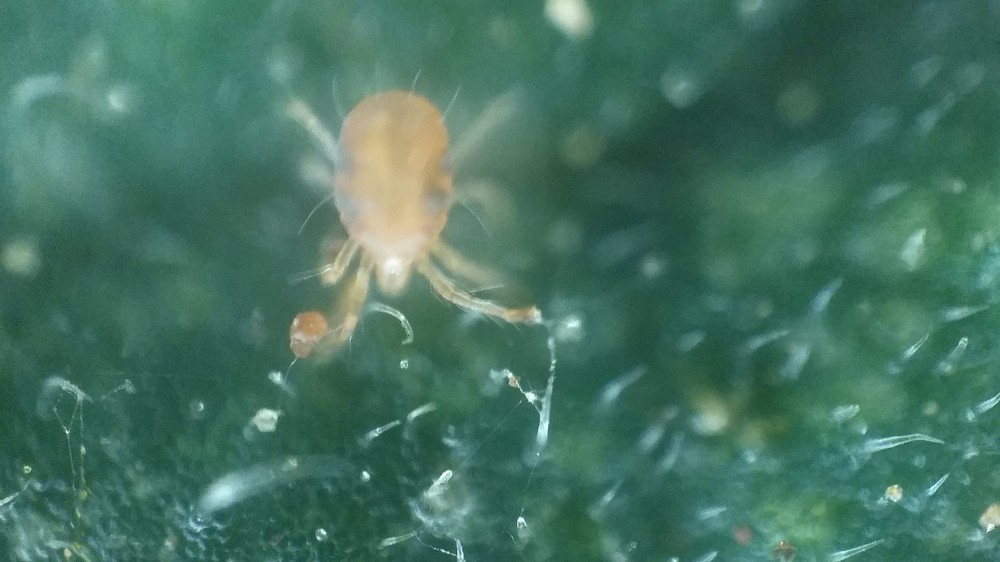Aracnido Rojo: (234, 72, 572, 357)
